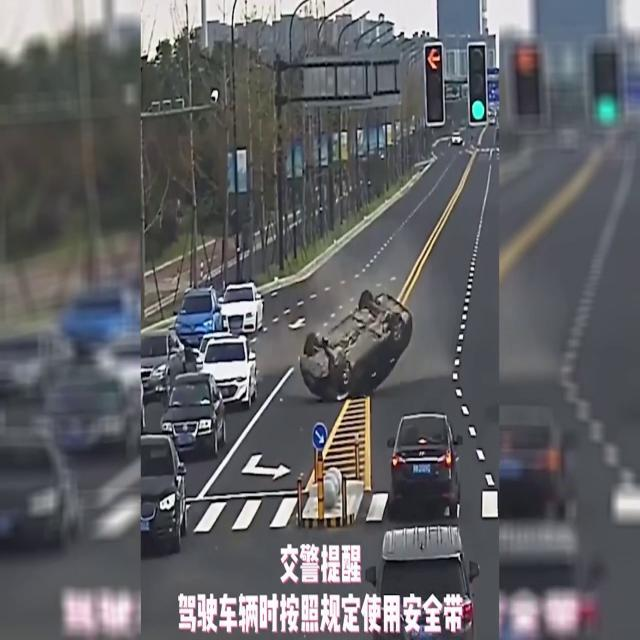multiple_accident: (283, 258, 415, 415), (192, 300, 285, 420)
